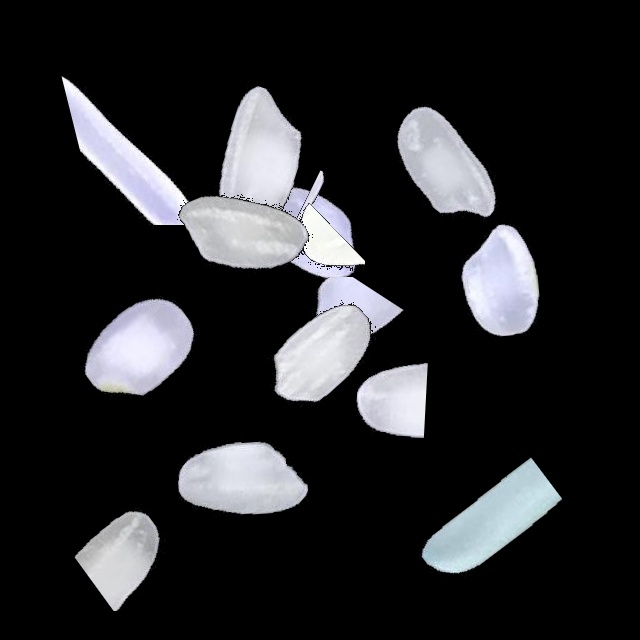Broken: (189, 126, 363, 376), (37, 63, 287, 225), (358, 446, 608, 606), (206, 277, 456, 419), (22, 477, 272, 611), (241, 335, 491, 455), (270, 161, 378, 411), (289, 152, 365, 402)
Full: (13, 226, 263, 476), (118, 352, 368, 602), (136, 37, 386, 287), (376, 156, 626, 406), (321, 41, 571, 291), (196, 227, 446, 477), (118, 103, 368, 353)
